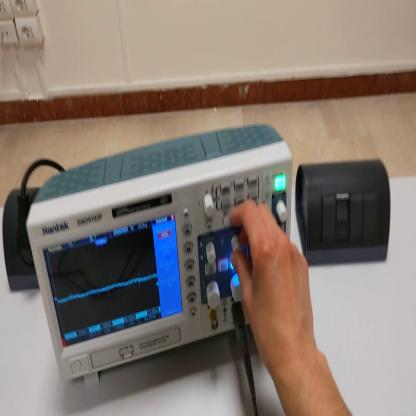hand: (230, 200, 319, 371)
oscilloscope: (29, 130, 292, 390)
socket: (4, 189, 40, 292)
